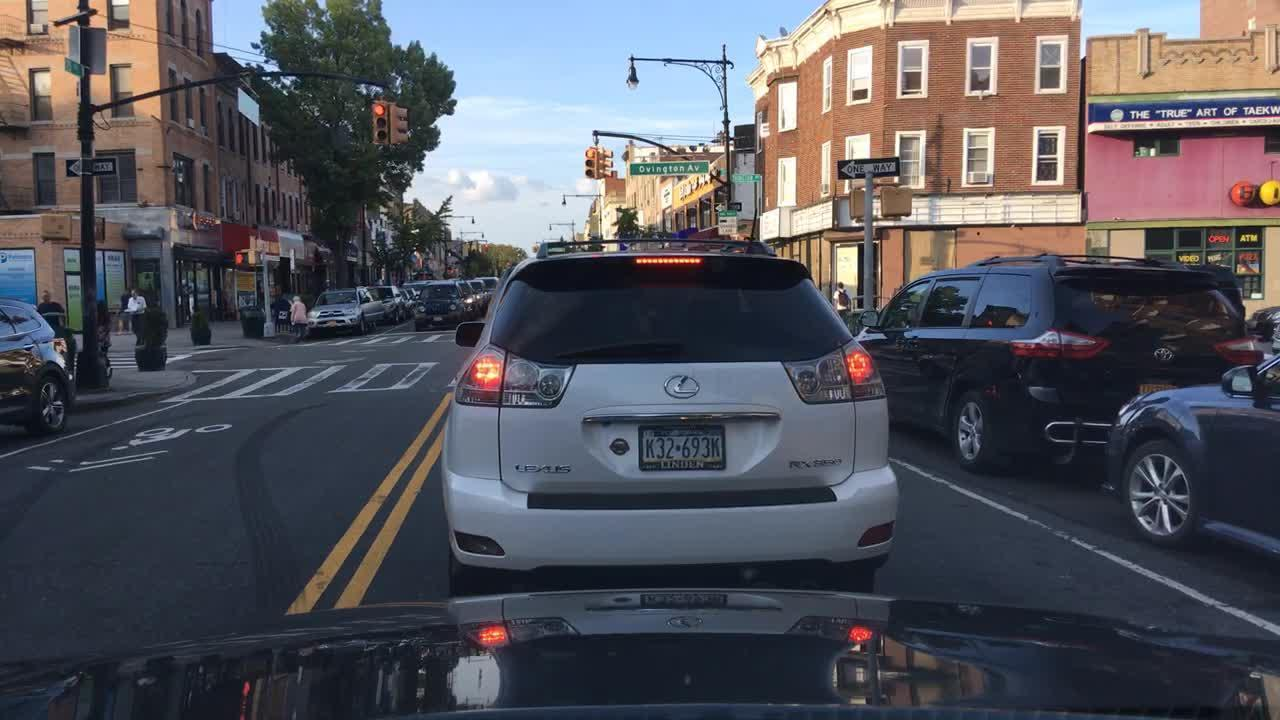Toyota: (1149, 342, 1178, 367)
lexus: (652, 365, 723, 411)
